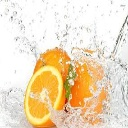orange: (24, 64, 66, 128)
